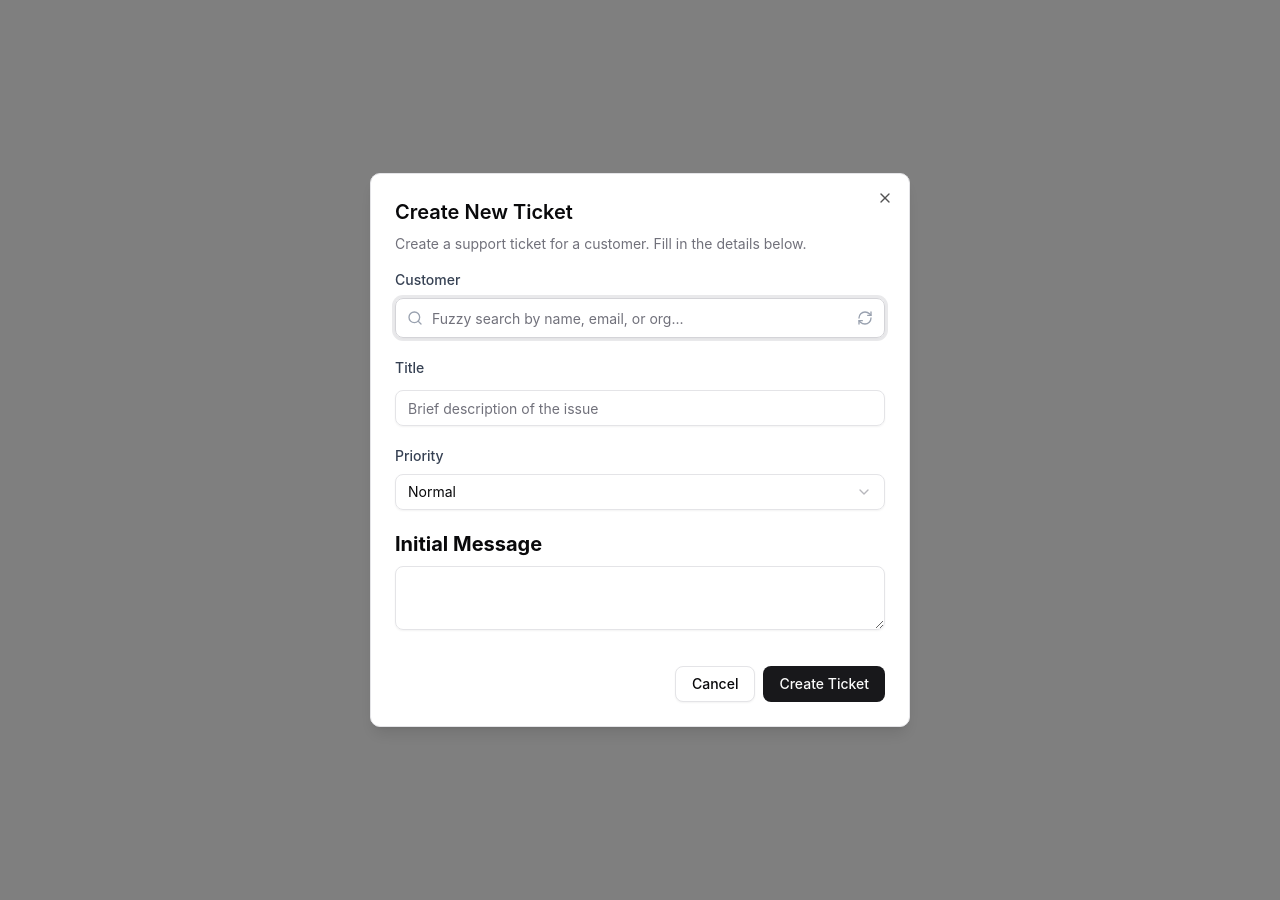
Test: CreateTicketDialog › Loading States › should show loading state while fetching members
Step 1. Type "test" into the field with placeholder "Fuzzy search by name, email, or org..." → (640, 318), box [395, 298, 885, 338]
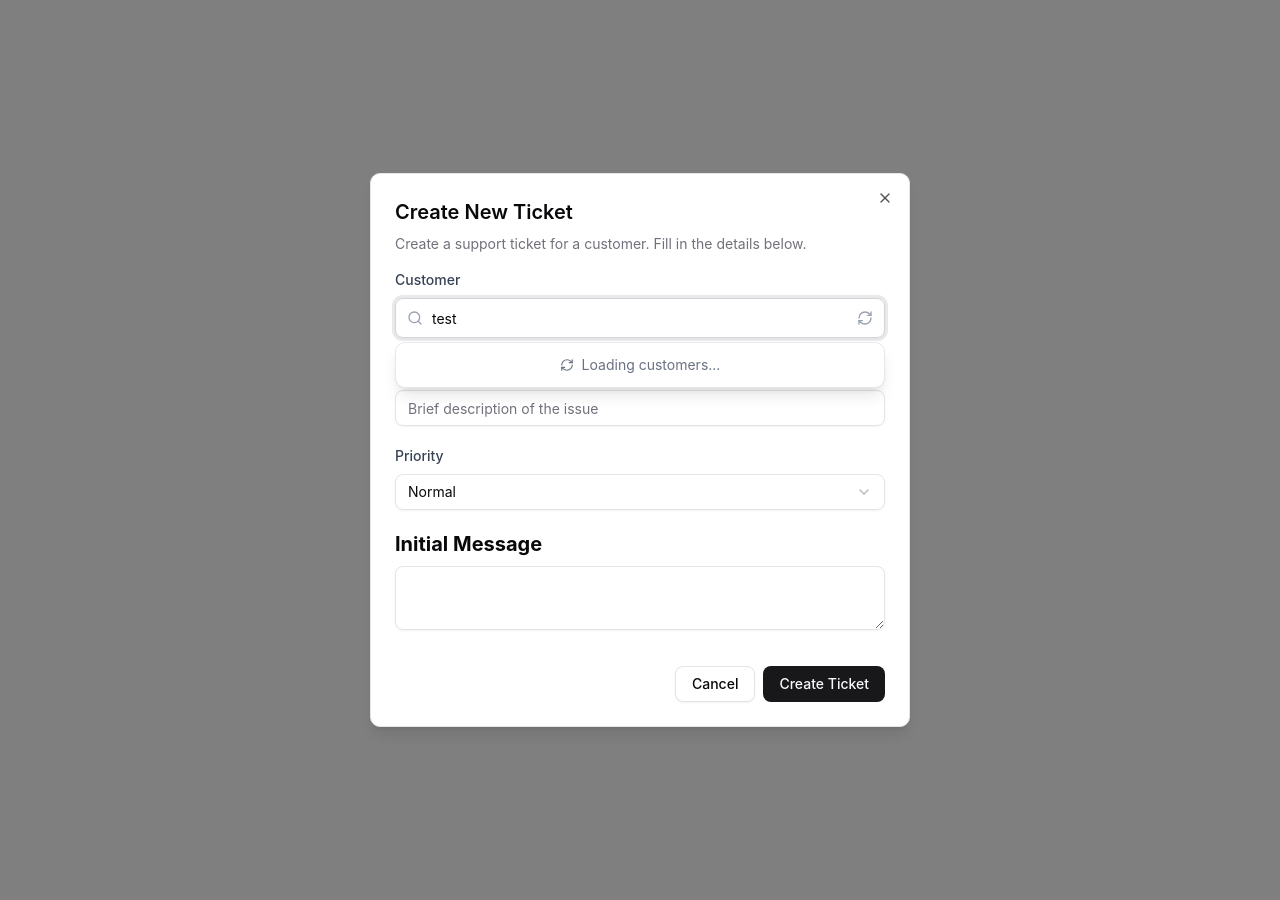
Expected: the text "Loading customers..." is shown, [560, 356, 720, 373]
